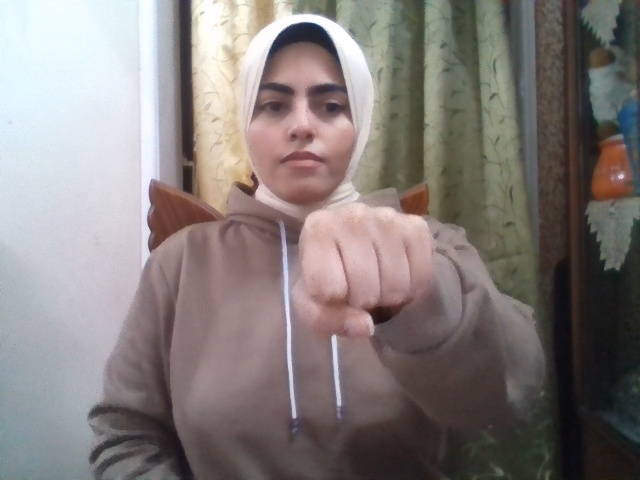yes: (294, 204, 433, 339)
